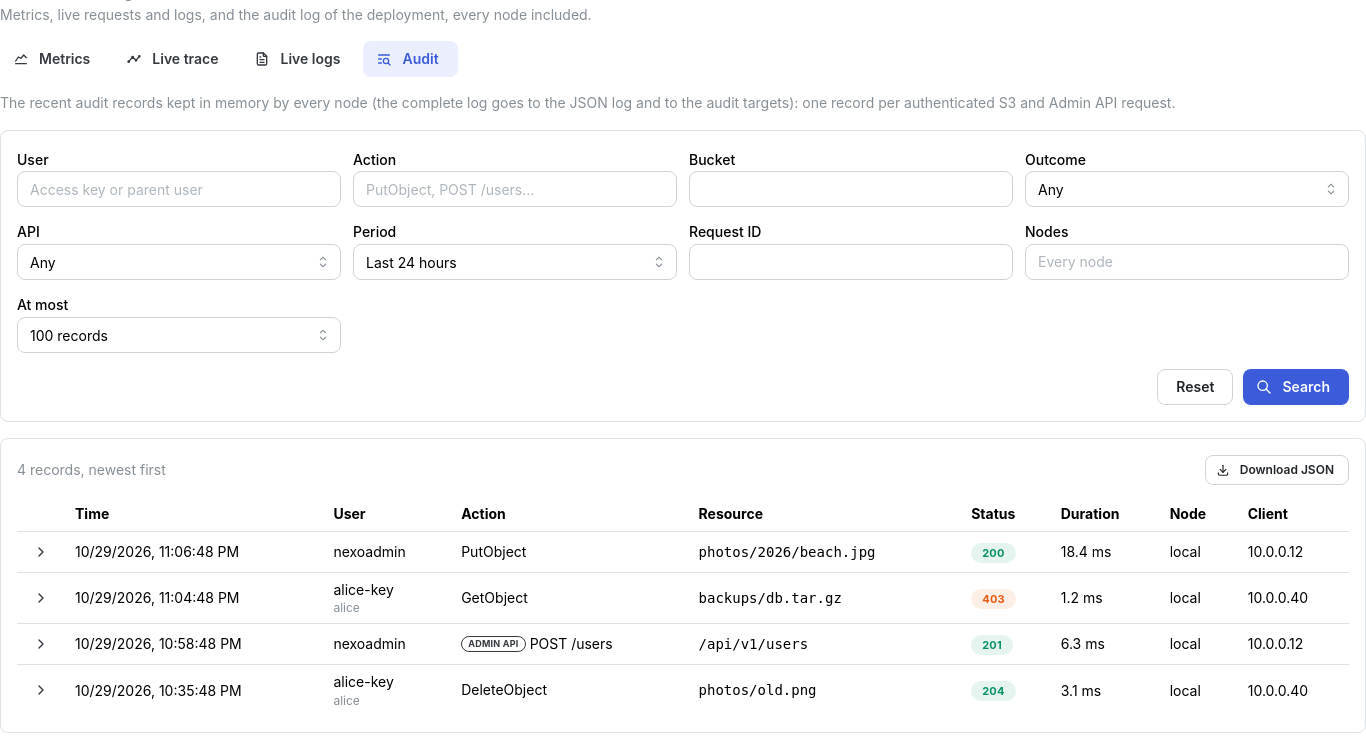
Test: audit (D-MON-03) › searches the records by user and outcome and shows their details
Type "alice" into the field labelled "User" at [179, 190], box [17,172,341,208]
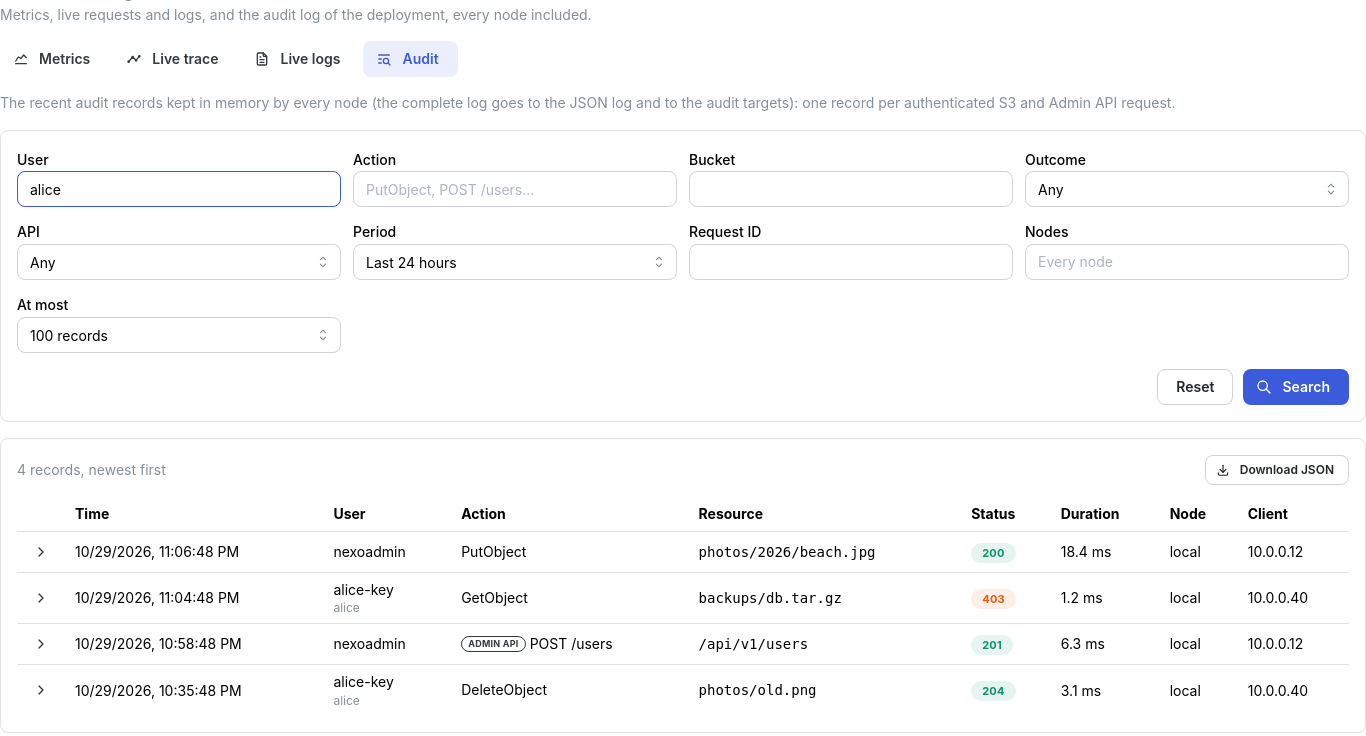
Click the field labelled "Outcome" at [1187, 190], box [1025,172,1349,208]
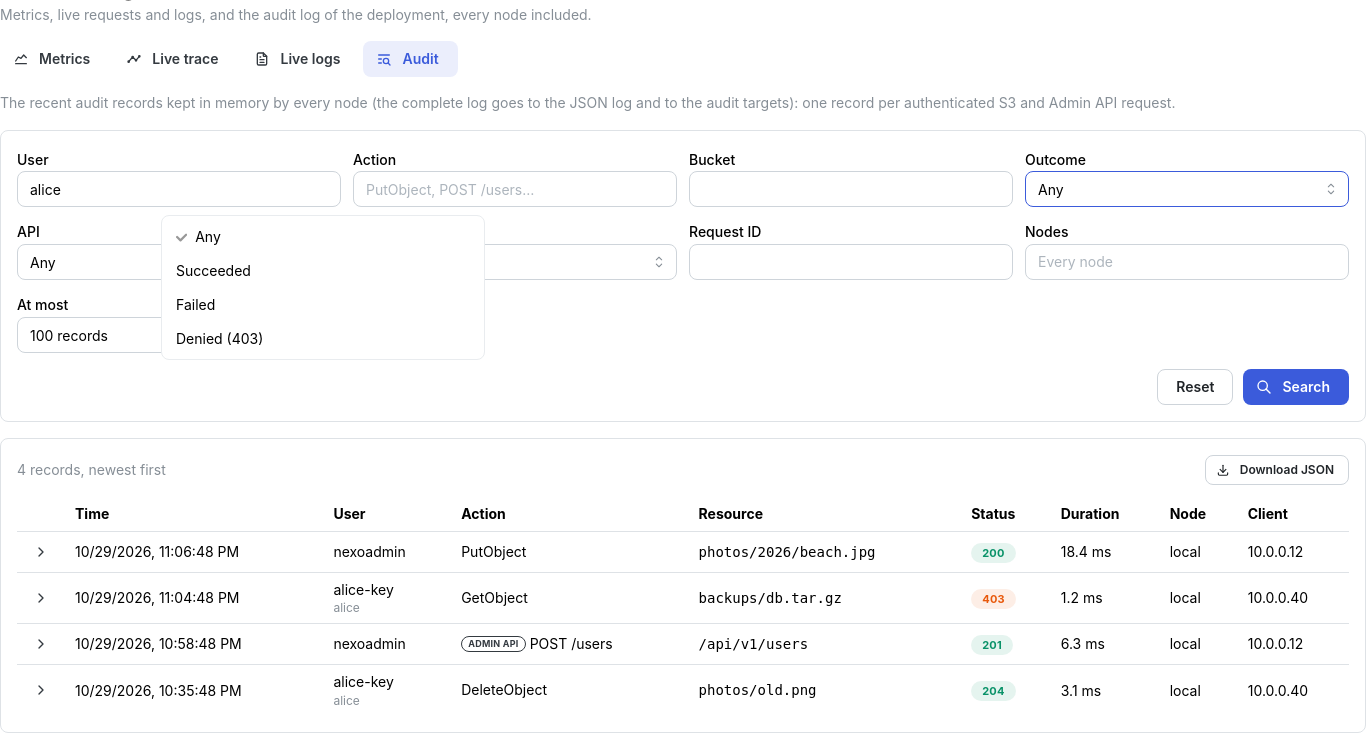
Click the option "Failed" at [196, 304], box [176,296,215,313]
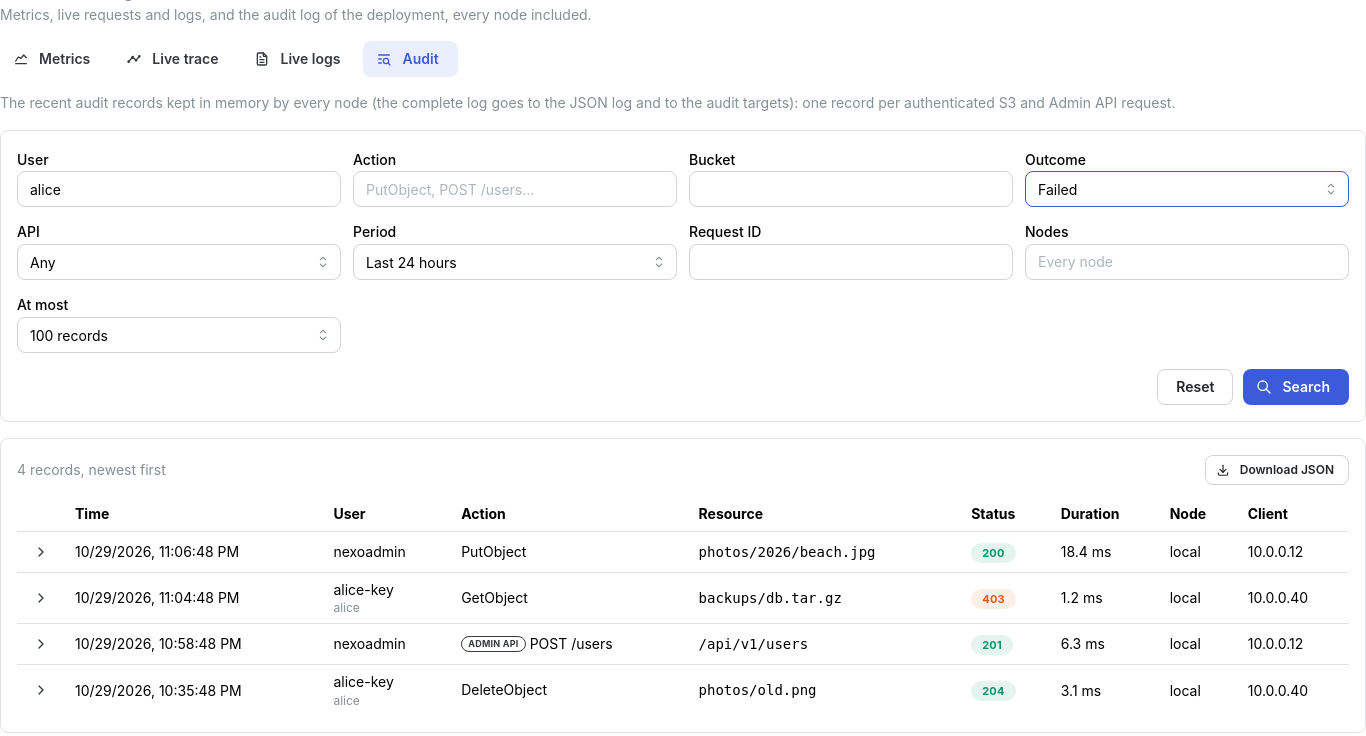
Click the button "Search" at [1296, 387], box [1244,369,1349,405]
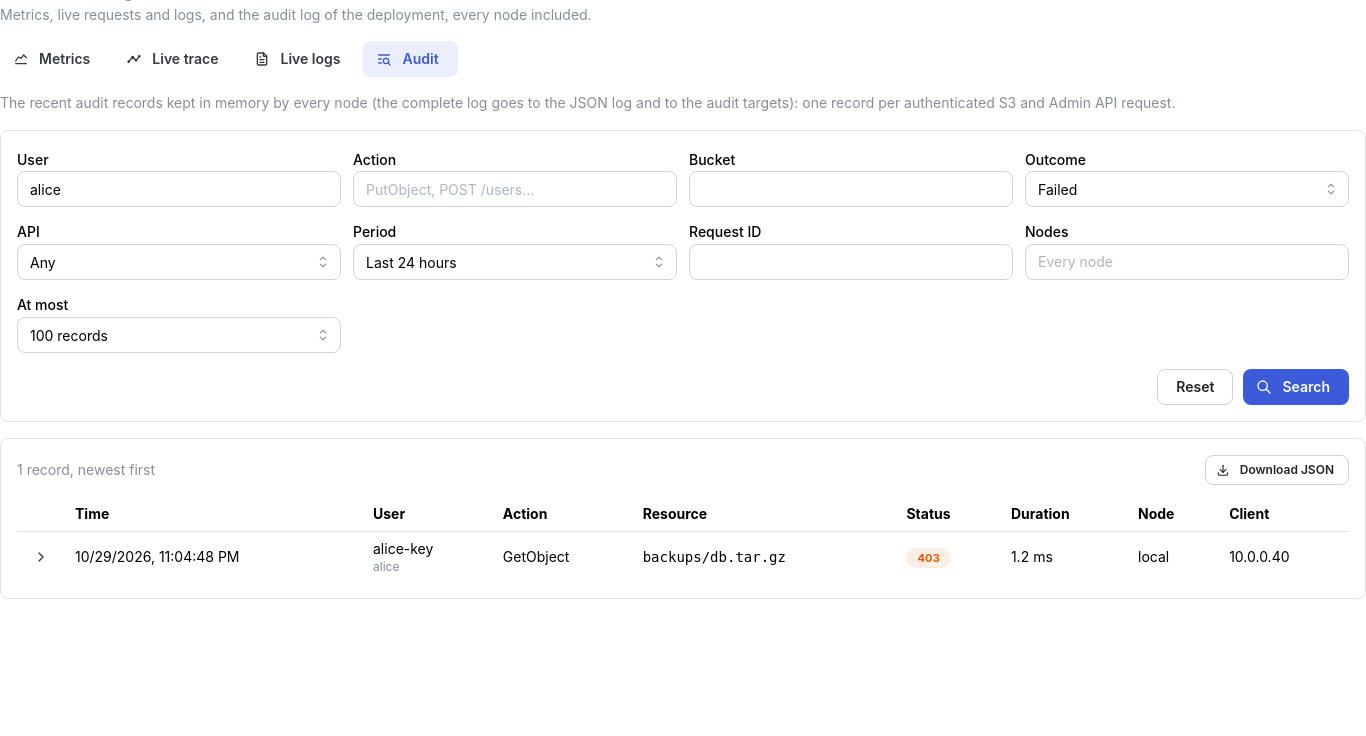
Expected: the row that starts with "10/29/2026, 11:04:48 PM" shows "GetObject", [503,548,569,565]
Expected: the text "1 record, newest first" is shown, [17,460,155,480]
Click the button named "Details of the record 17F09C" at [41, 557], box [27,543,55,571]
(page scrolled)
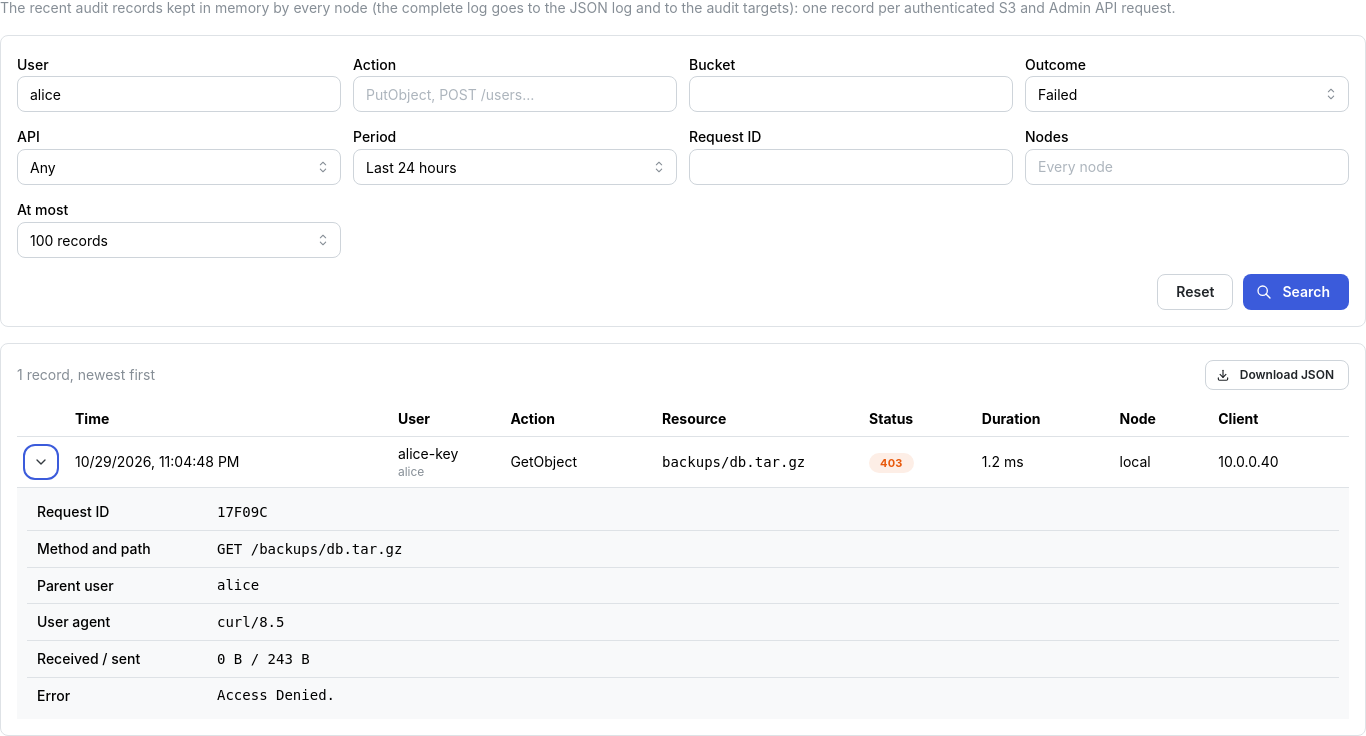
Expected: the text "curl/8.5" is shown, [217,614,284,630]
Expected: the text "Access Denied." is shown, [217,687,335,703]
